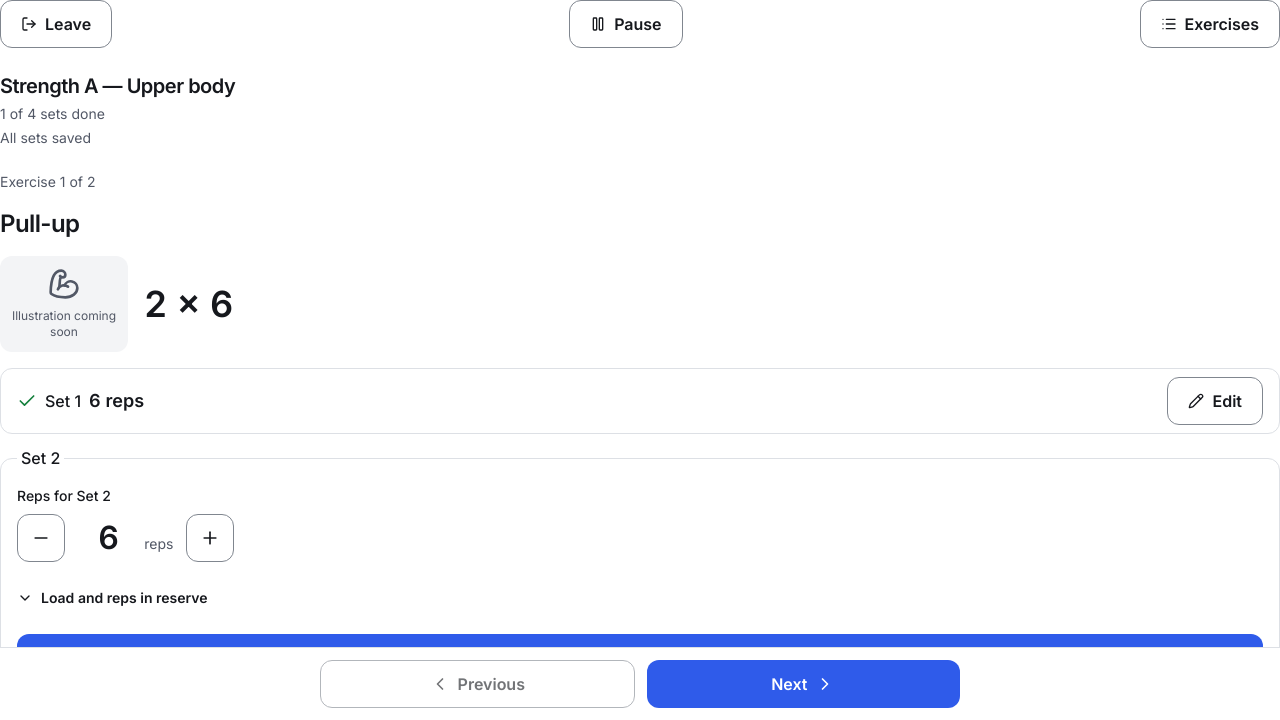
Test case: WorkoutScreen pause (D34, D45, D50) › a refused pause goes back and says so; a refused resume stays paused and says so
The width and height of the screenshot is (1280, 720).
Click the button "Pause".
click(626, 24)  # box [569, 0, 682, 48]
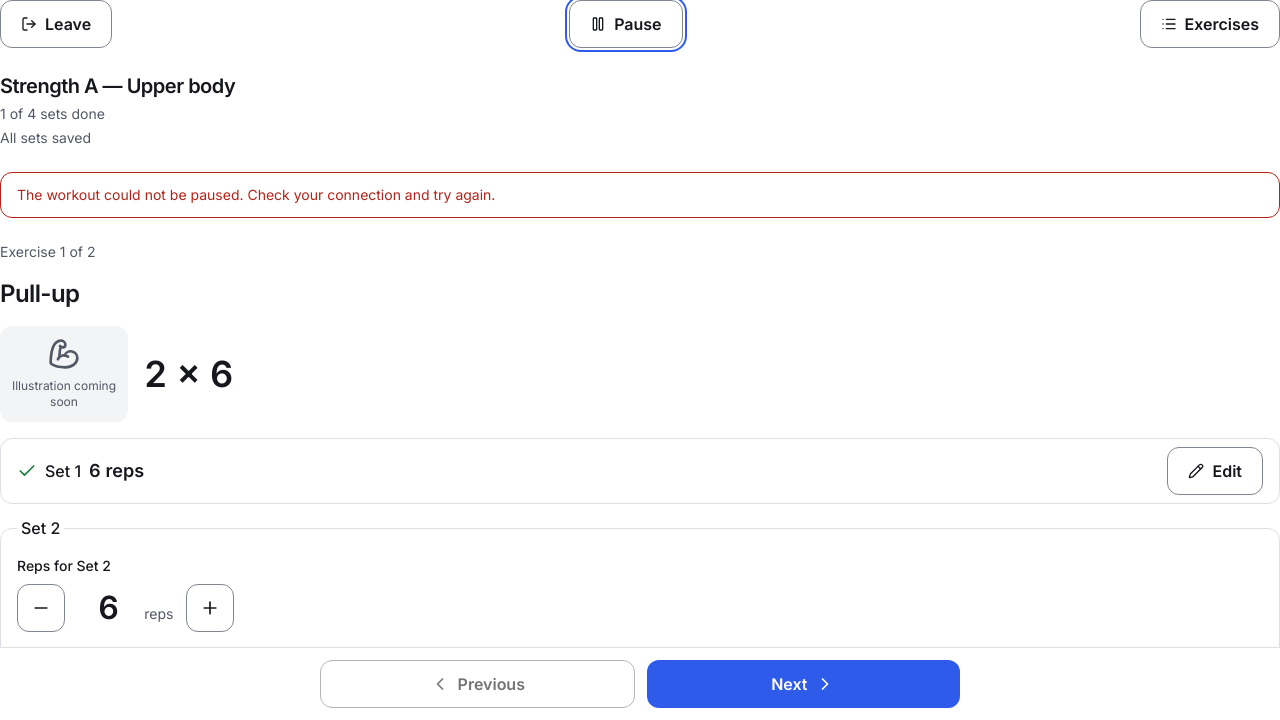
Check: the dialog "Workout paused" is not shown
Check: the text "The workout could not be paused. Check your connection and try again." is shown, box [0, 172, 1279, 218]
Click the button "Pause".
click(626, 24)  # box [569, 0, 682, 48]
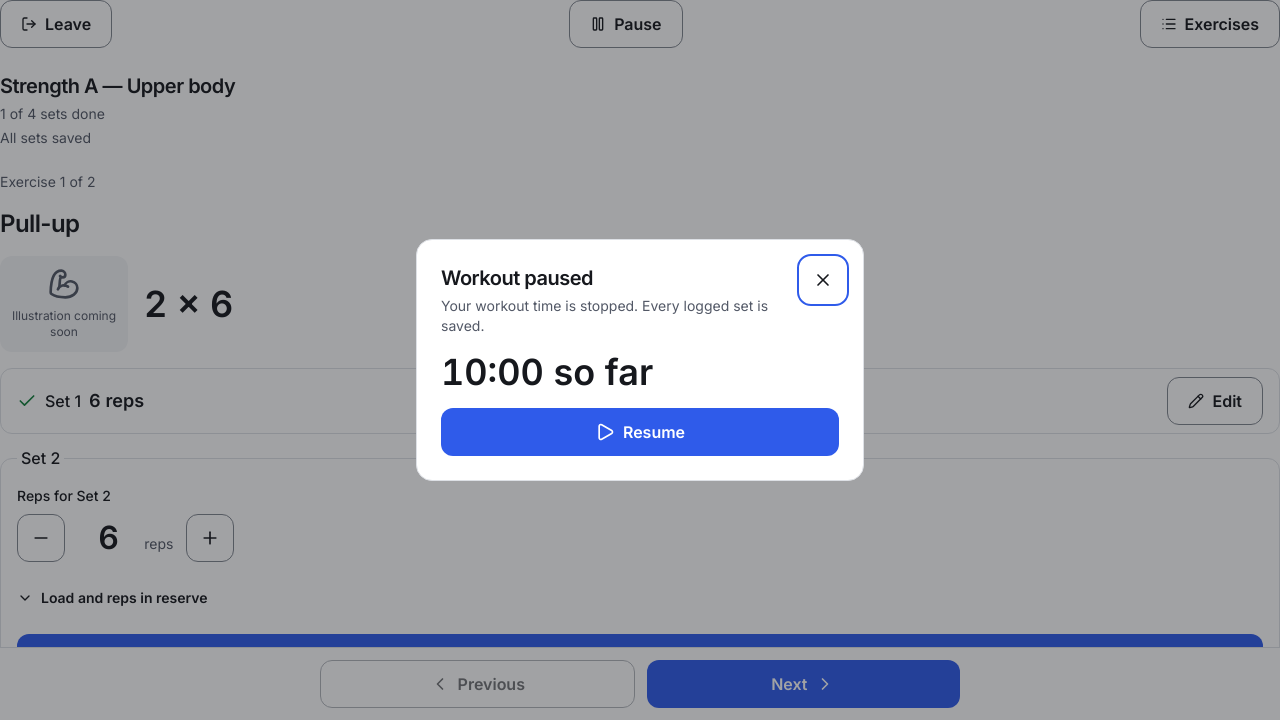
Click the button "Resume".
click(640, 432)  # box [441, 408, 839, 456]
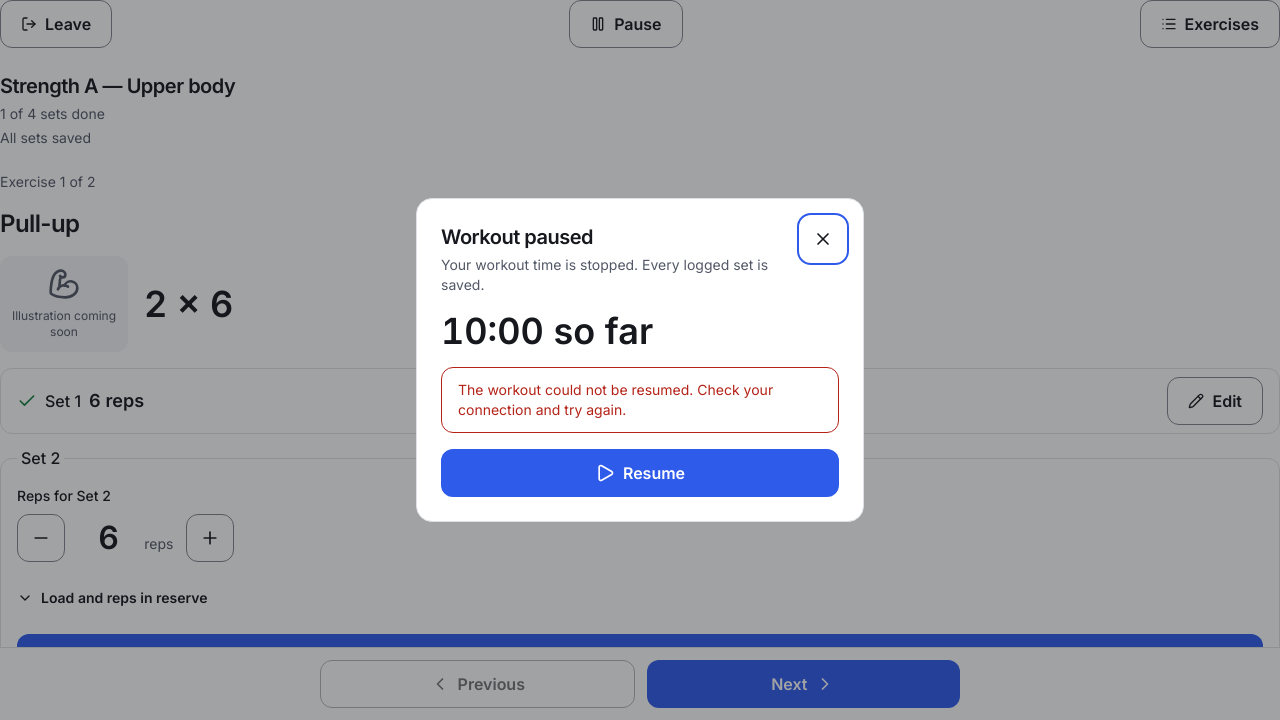
Check: the dialog "Workout paused" is shown, box [416, 198, 864, 522]
Check: the text "The workout could not be resumed. Check your connection and try again." is shown, box [441, 367, 839, 433]
